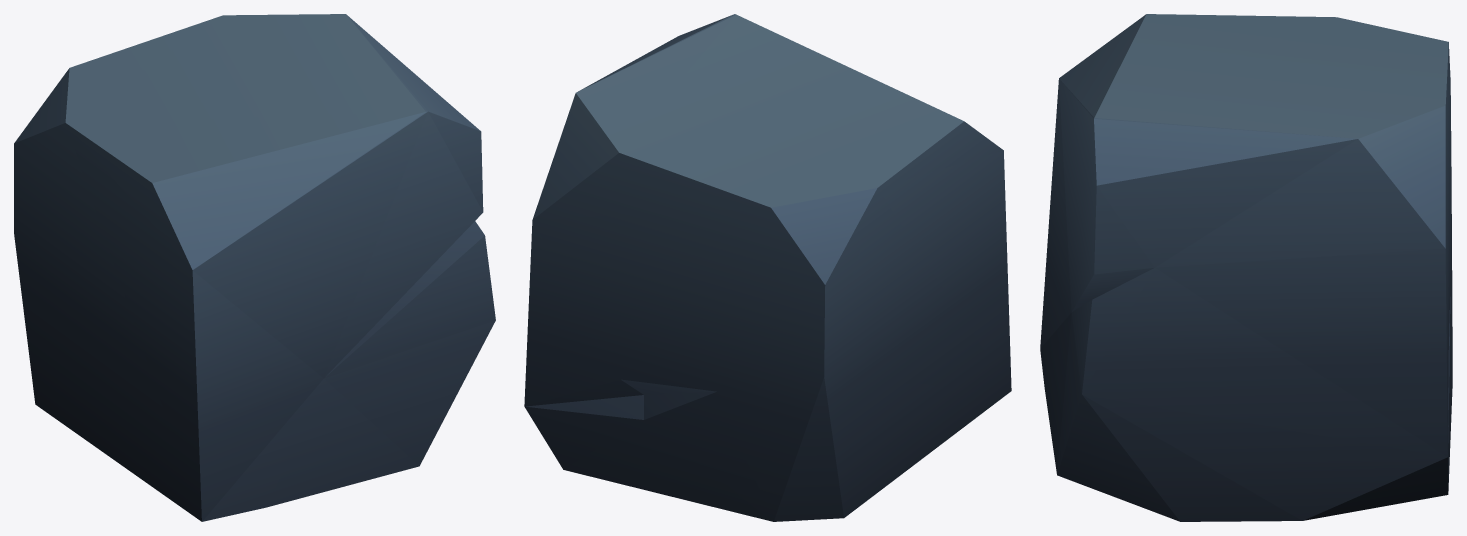
Rendered from rock_block_3.glb.
The picture shows the model from 3 angles, left to right: view 1: azimuth 30°, elevation 25°; view 2: azimuth 150°, elevation 25°; view 3: azimuth 270°, elevation 25°; orthographic projection. The views are drawn at different scales.
Visible parts, largest first — view 1: rock_block_3; view 2: rock_block_3; view 3: rock_block_3.
Boxes of the visible parts, left/top/right/bottom form: rock_block_3: left=14, top=14, right=495, bottom=521; rock_block_3: left=524, top=14, right=1011, bottom=521; rock_block_3: left=1040, top=14, right=1452, bottom=521.
Bounding box in the file's own units: 1.07 × 1.09 × 1.1.
1 material, 1 textured.
